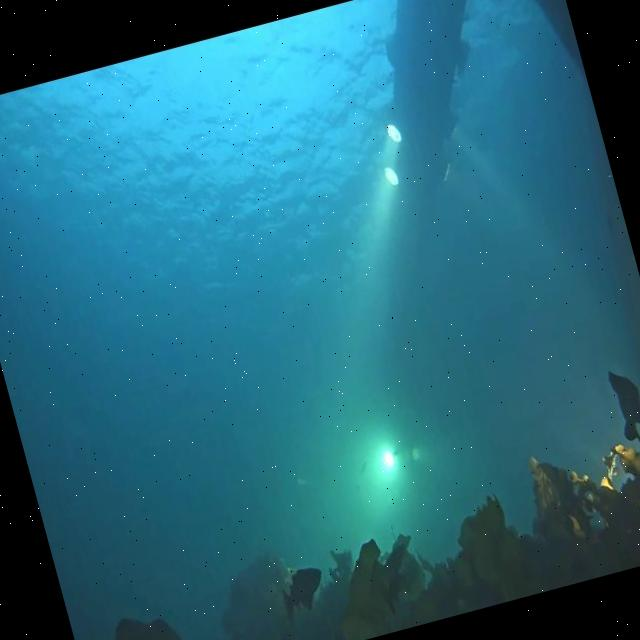fish: (274, 564, 330, 622)
